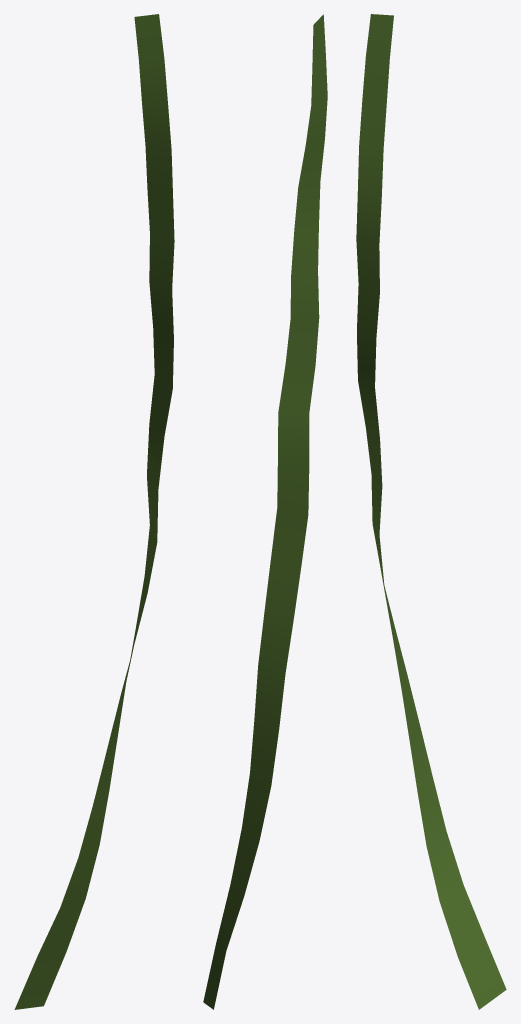
Rendered from plant_swamp_kelp_long_solo_R.fbx.
The picture shows the model from 3 angles, left to right: view 1: azimuth 90°, elevation 25°; view 2: azimuth 150°, elevation 25°; view 3: azimuth 270°, elevation 25°; orthographic projection. The views are drawn at different scales.
Parts seen in each view (by area): view 1: plant_swamp_kelp_long_solo_R; view 2: plant_swamp_kelp_long_solo_R; view 3: plant_swamp_kelp_long_solo_R.
Boxes of the visible parts, x1,y1,x2,y2 form: plant_swamp_kelp_long_solo_R: [14, 14, 174, 1009]; plant_swamp_kelp_long_solo_R: [203, 14, 327, 1009]; plant_swamp_kelp_long_solo_R: [356, 14, 506, 1009].
Bounding box in the file's own units: 18.64 × 254 × 35.91.
